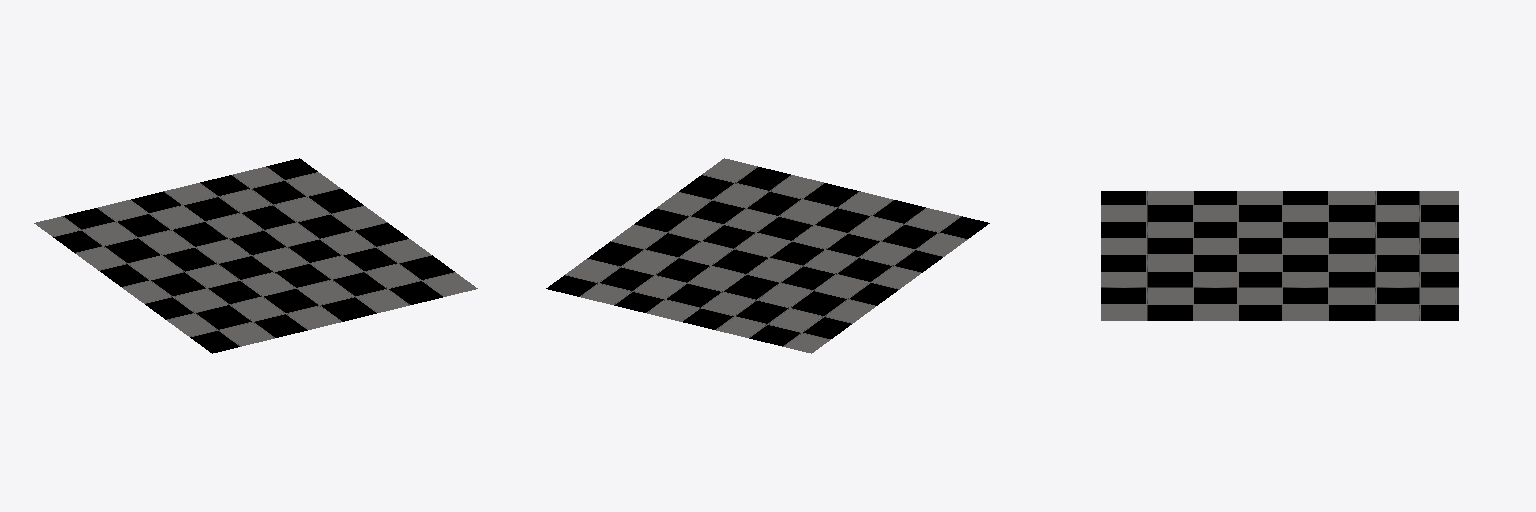
3 renders of one model, left to right at view 1: azimuth 30°, elevation 25°; view 2: azimuth 150°, elevation 25°; view 3: azimuth 270°, elevation 25°, orthographic.
Visible parts, largest first — view 1: 平面; view 2: 平面; view 3: 平面.
Boxes of the visible parts, x1=… form: 平面: x1=34, y1=158, x2=477, y2=353; 平面: x1=546, y1=158, x2=989, y2=353; 平面: x1=1101, y1=191, x2=1458, y2=320.
Size of the model in its own units: 79.57 by 0 by 92.47.
Materials: 1 (1 with a texture image).